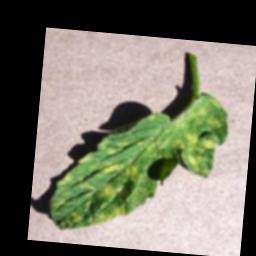Leaf_Mold: (46, 80, 231, 243)
